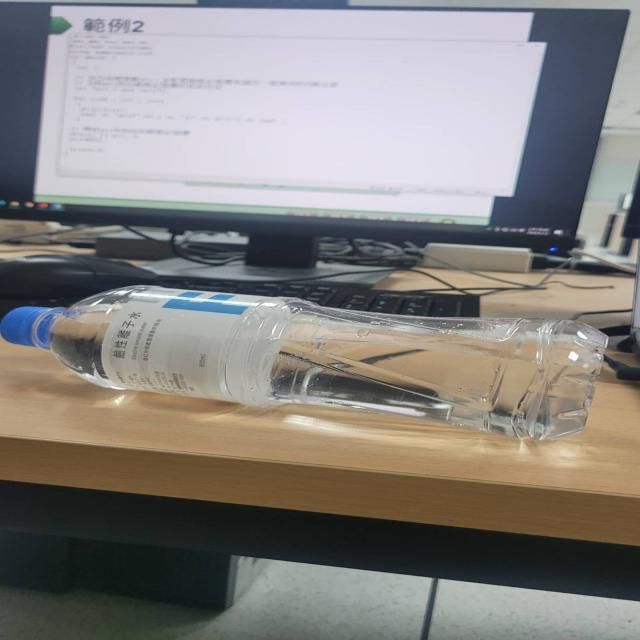PET bottle: (0, 280, 617, 445)
